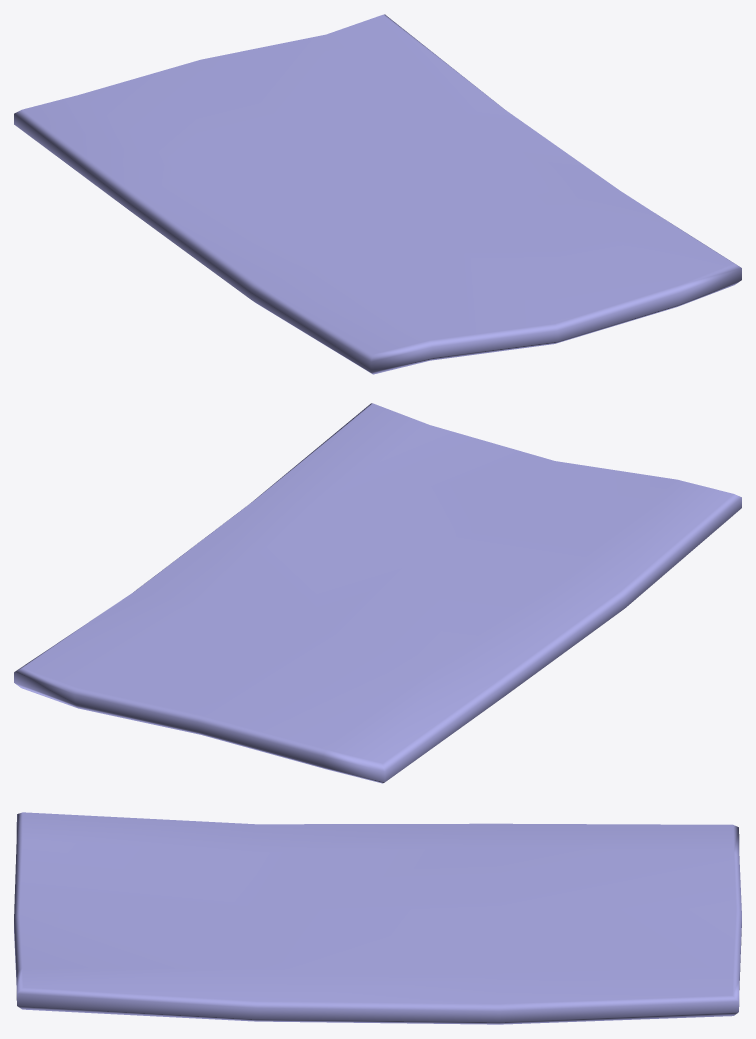
Rendered from Friday_House_Doormat.fbx.
3 renders of one model, top to bottom at view 1: azimuth 30°, elevation 25°; view 2: azimuth 150°, elevation 25°; view 3: azimuth 270°, elevation 25°, orthographic.
Parts seen in each view (by area): view 1: Friday_Rug; view 2: Friday_Rug; view 3: Friday_Rug.
Part boxes in pixels (x1=…): Friday_Rug: x1=14, y1=14, x2=741, y2=374; Friday_Rug: x1=14, y1=403, x2=741, y2=783; Friday_Rug: x1=14, y1=812, x2=741, y2=1024.
Bounding box in the file's own units: 5.56 × 0.5069 × 9.26.
